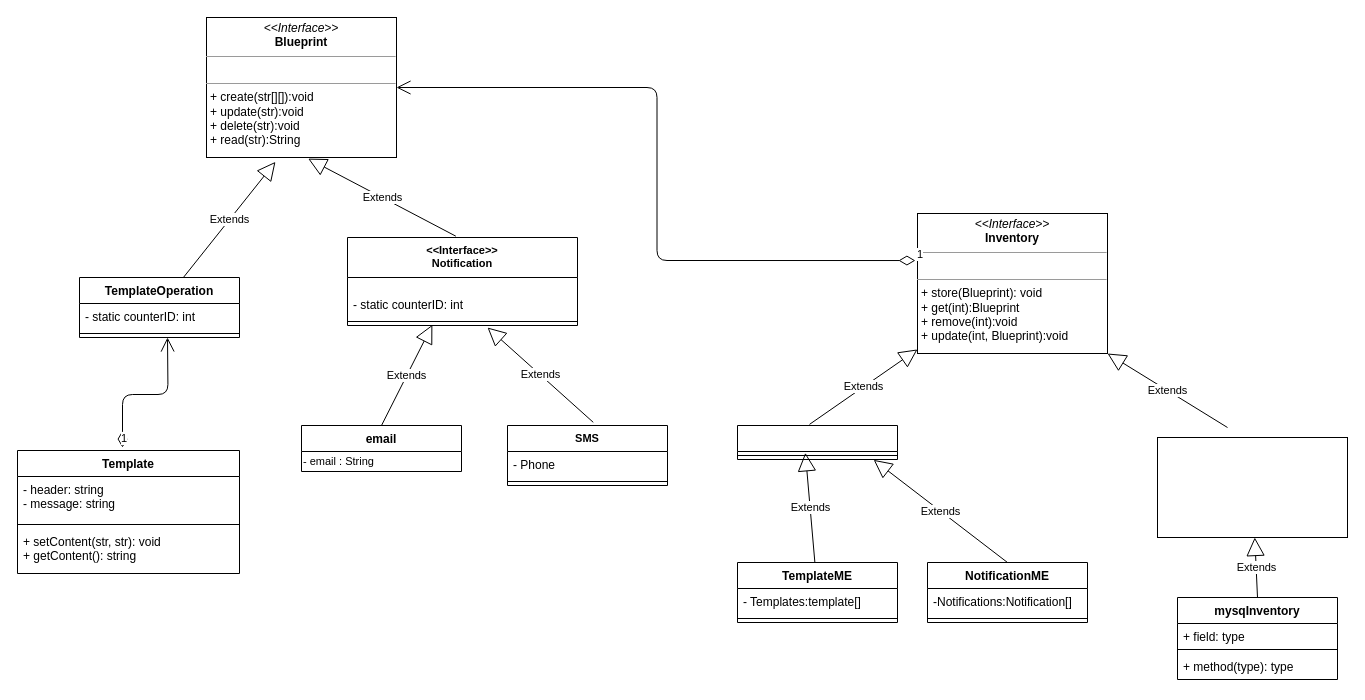
Image size: 1365x700. Some labels were removed from this diagram. The centre of each missing label's shape, as x and y in pixels:
"<<Interface>> databaseInventory + + connectToDataBase():obj" goes at point (1252, 487).
"memoryInventory" goes at point (817, 442).
